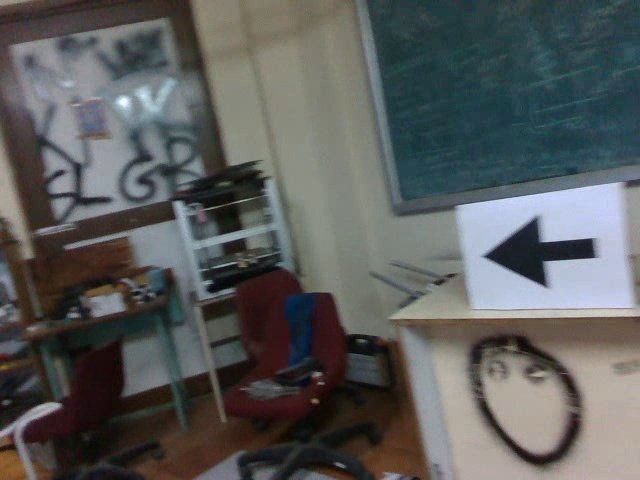Left: (478, 210, 600, 288)
